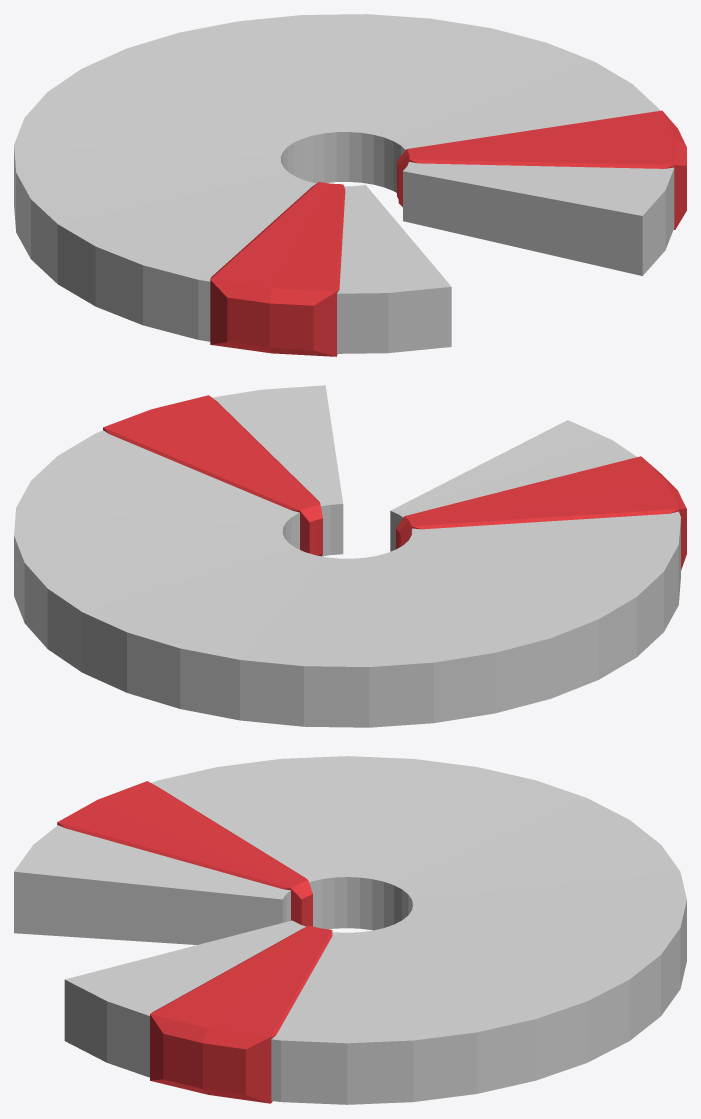
The model's file is platform_singlegap4.glb.
3 views of the same model, one above another, from view 1: azimuth 30°, elevation 25°; view 2: azimuth 150°, elevation 25°; view 3: azimuth 270°, elevation 25° (orthographic). The views are drawn at different scales.
Parts seen in each view (by area): view 1: Platform_SingleGap4, Danger.008, Danger.019; view 2: Platform_SingleGap4, Danger.019, Danger.008; view 3: Platform_SingleGap4, Danger.019, Danger.008.
Boxes of the visible parts, <box> form: Platform_SingleGap4: <box>14,14,674,353</box>; Danger.008: <box>210,182,345,356</box>; Danger.019: <box>397,110,686,229</box>; Platform_SingleGap4: <box>14,385,680,727</box>; Danger.019: <box>103,395,322,556</box>; Danger.008: <box>396,456,686,570</box>; Platform_SingleGap4: <box>14,756,686,1104</box>; Danger.019: <box>150,925,332,1103</box>; Danger.008: <box>57,781,312,926</box>.
Size of the model in its own units: 2 by 0.2167 by 1.98.
